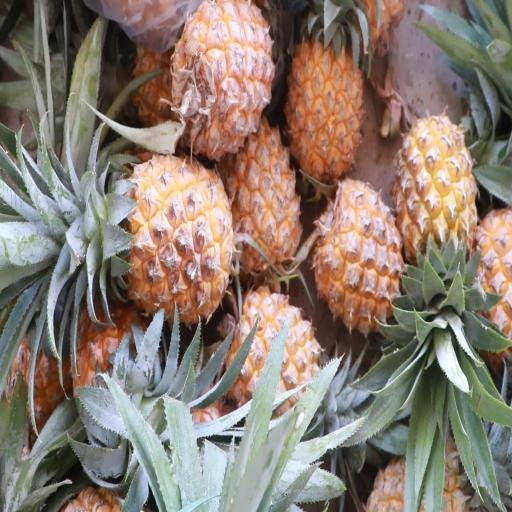Pineapple - v8 v1: (70, 150, 241, 328), (167, 2, 277, 165), (233, 282, 345, 440), (395, 109, 484, 306), (309, 166, 411, 336), (283, 2, 366, 186), (223, 114, 304, 290)
